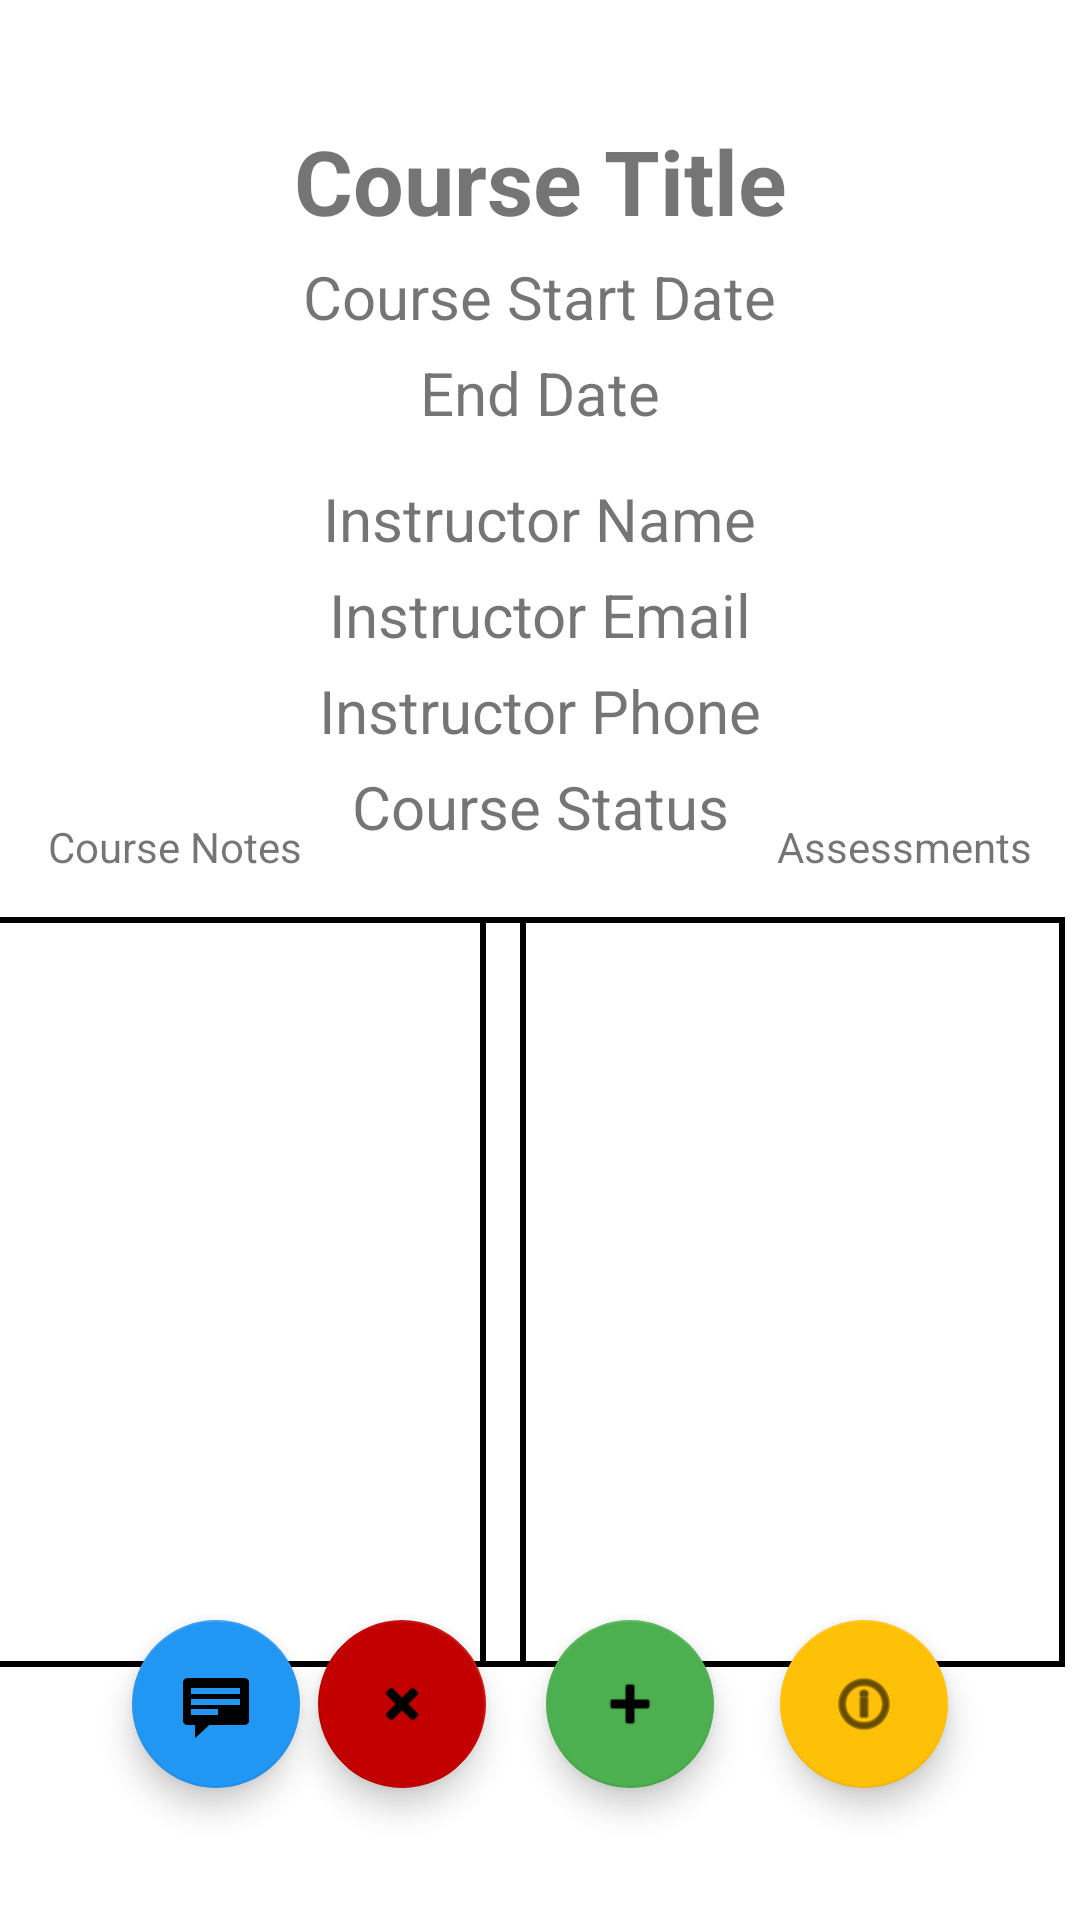

Locate icon controls on the screen. Image size 1080 x 1920, boxes as (x1, y1, x2, y2).
chat: (132, 1620, 300, 1788)
info details: (780, 1620, 948, 1788)
